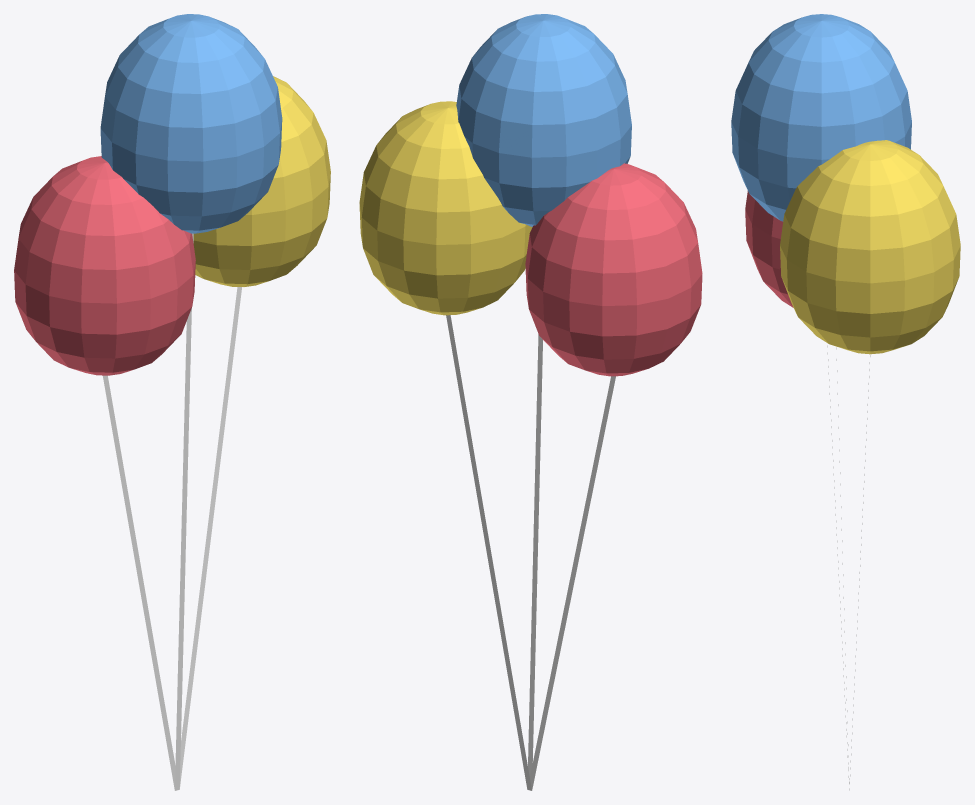
Rendered from balloons.glb.
The picture shows the model from 3 angles, left to right: view 1: azimuth 30°, elevation 25°; view 2: azimuth 150°, elevation 25°; view 3: azimuth 270°, elevation 25°; orthographic projection. The views are drawn at different scales.
Parts seen in each view (by area): view 1: balloons; view 2: balloons; view 3: balloons.
Boxes of the visible parts, x1,y1,x2,y2 form: balloons: [14, 14, 330, 790]; balloons: [359, 14, 702, 790]; balloons: [731, 14, 960, 790].
Bounding box in the file's own units: 0.51 × 1.22 × 0.33.
